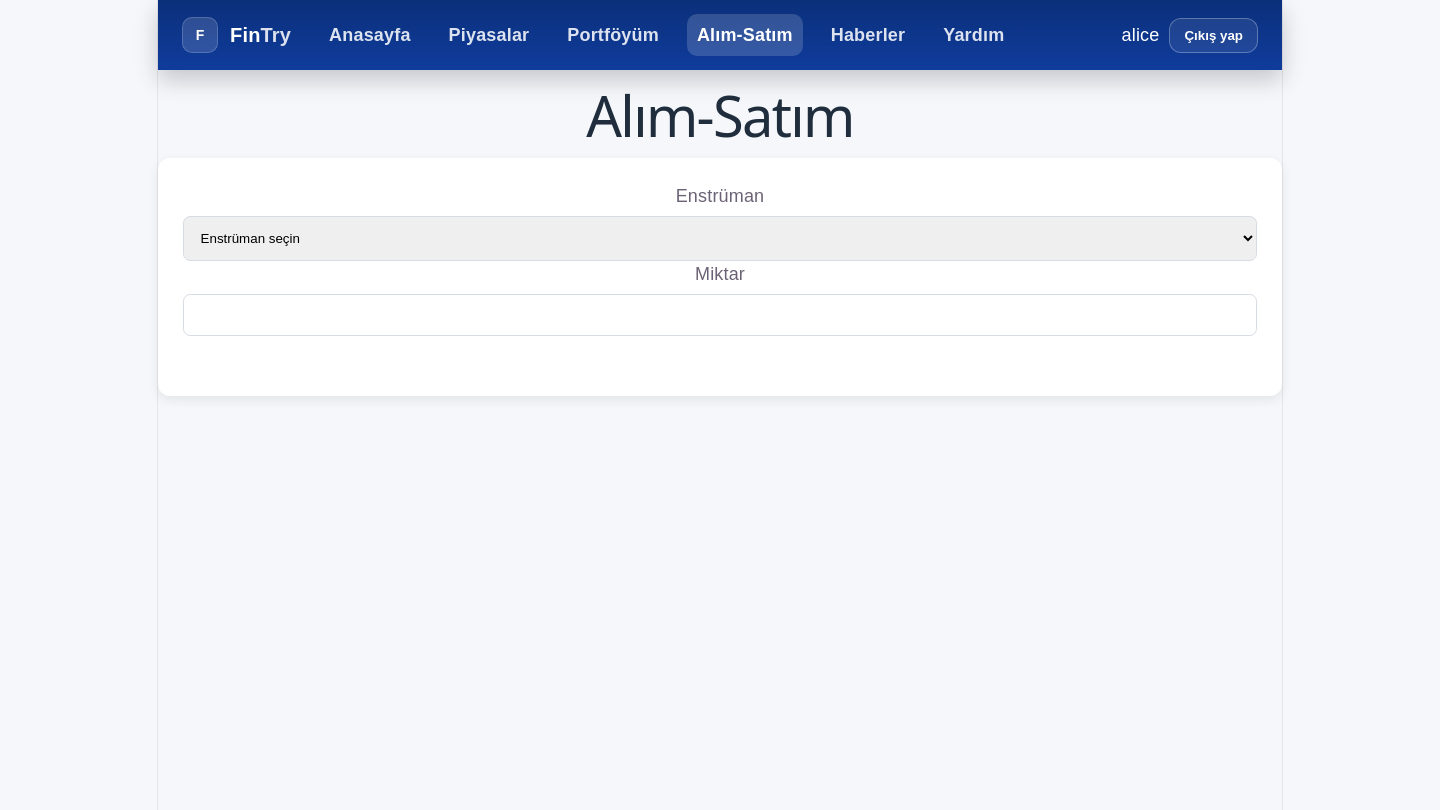
Scenario: sends trades without userId and retains quantity as decimal text
Select "TEST — Test" in the dropdown labelled "Enstrüman" at (720, 239), box [183,216,1257,261]
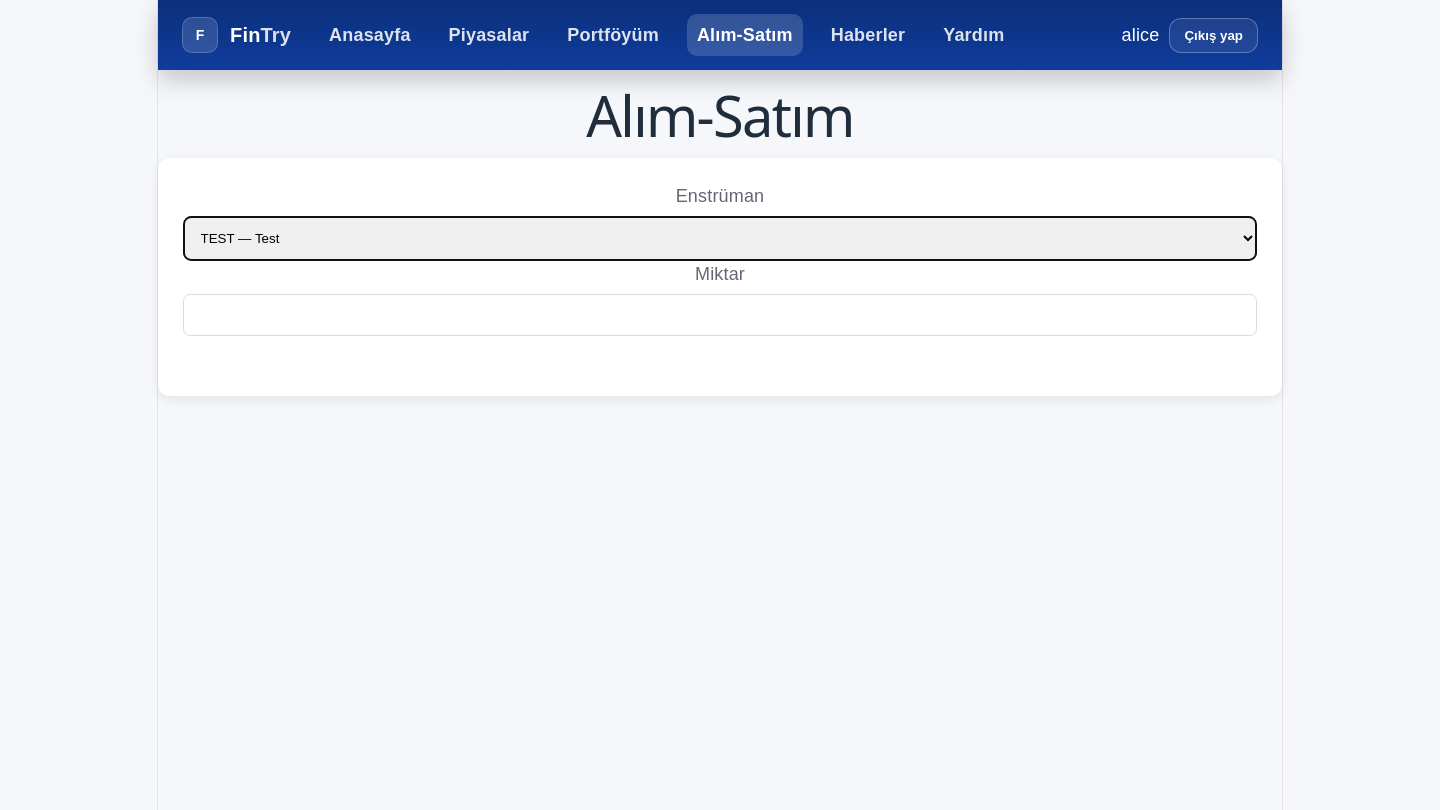
Type "0.12345678" into the number field labelled "Miktar".
click(720, 315); type("0.12345678")  # box [183,294,1257,336]
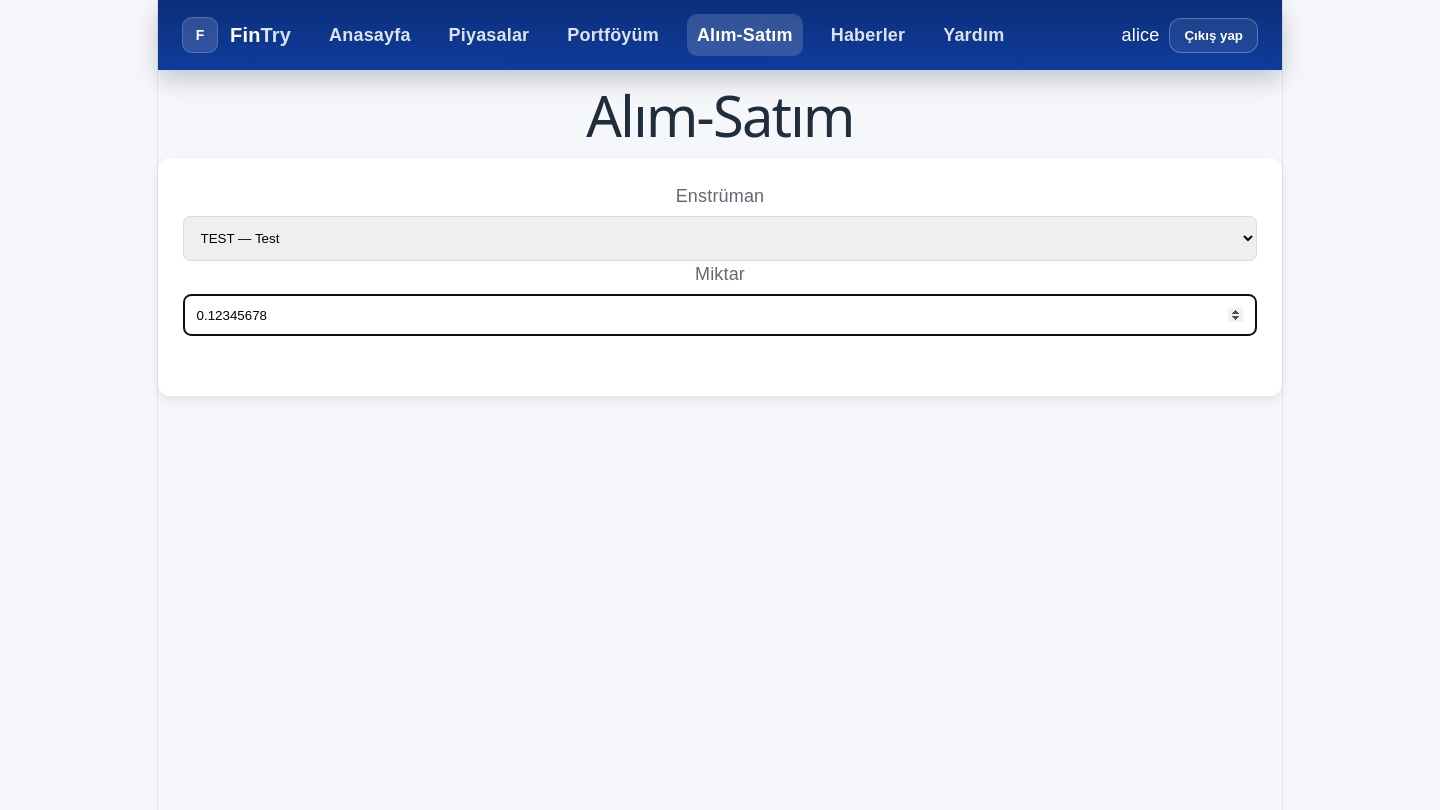
Click the button "Al".
click(695, 354)  # box [673,336,716,371]
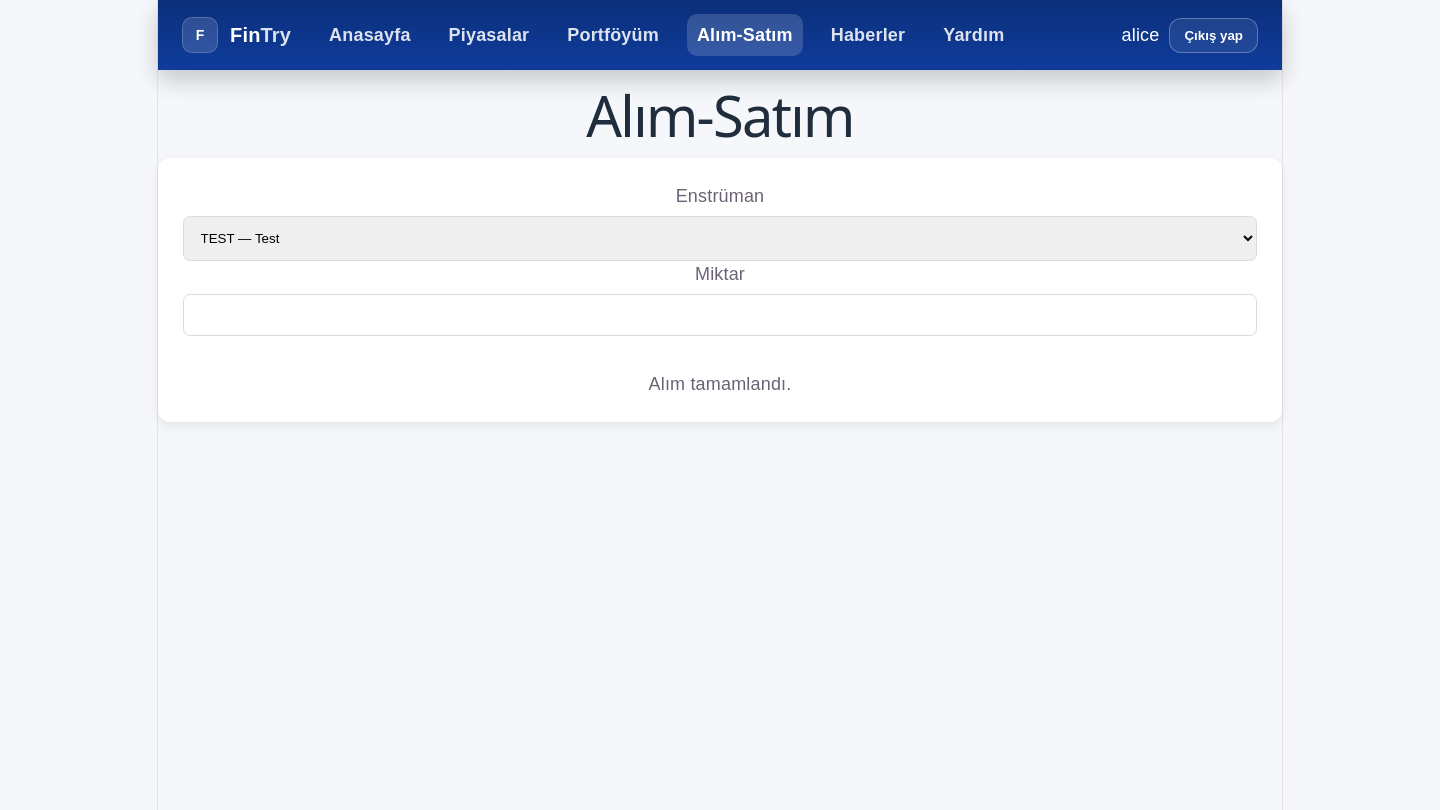
Expected: the text "Alım tamamlandı." is shown, [648,374,791,394]
